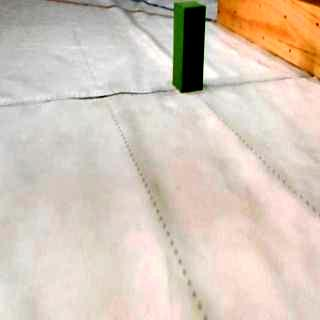greenbox: (172, 2, 206, 92)
